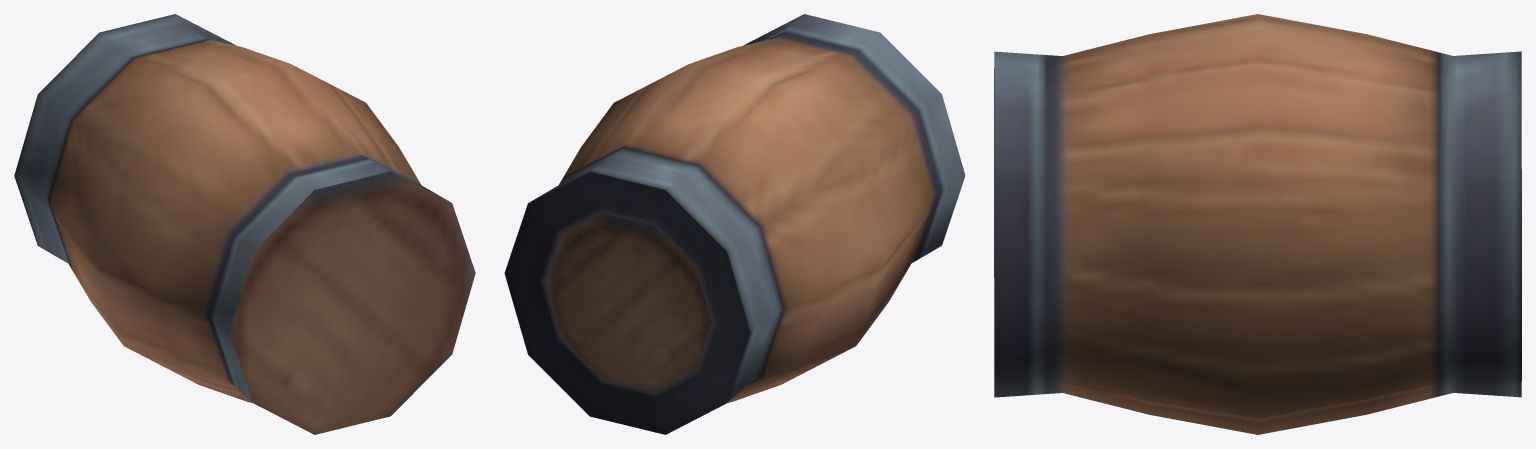
The model's file is dkjy_1_24.fbx.
The picture shows the model from 3 angles, left to right: view 1: azimuth 30°, elevation 25°; view 2: azimuth 150°, elevation 25°; view 3: azimuth 270°, elevation 25°; orthographic projection. The views are drawn at different scales.
Visible parts, largest first — view 1: dkjy_1_24; view 2: dkjy_1_24; view 3: dkjy_1_24.
Part boxes in pixels (bbox=[...]): dkjy_1_24: bbox=[14, 14, 475, 434]; dkjy_1_24: bbox=[504, 14, 965, 434]; dkjy_1_24: bbox=[994, 14, 1521, 434].
Size of the model in its own units: 229 by 218 by 285.
